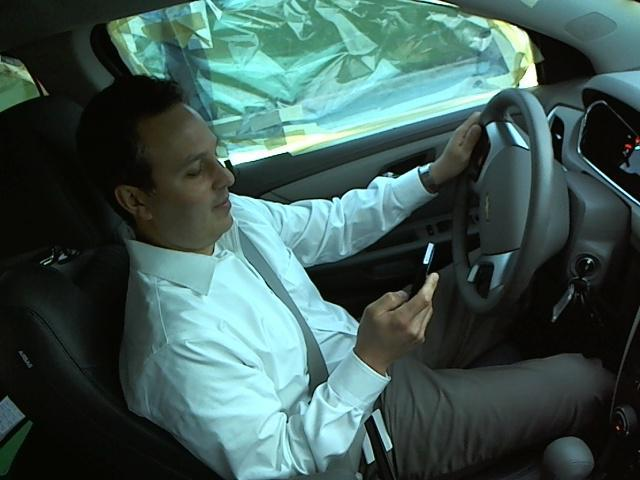PhoneUse: (399, 239, 443, 326)
